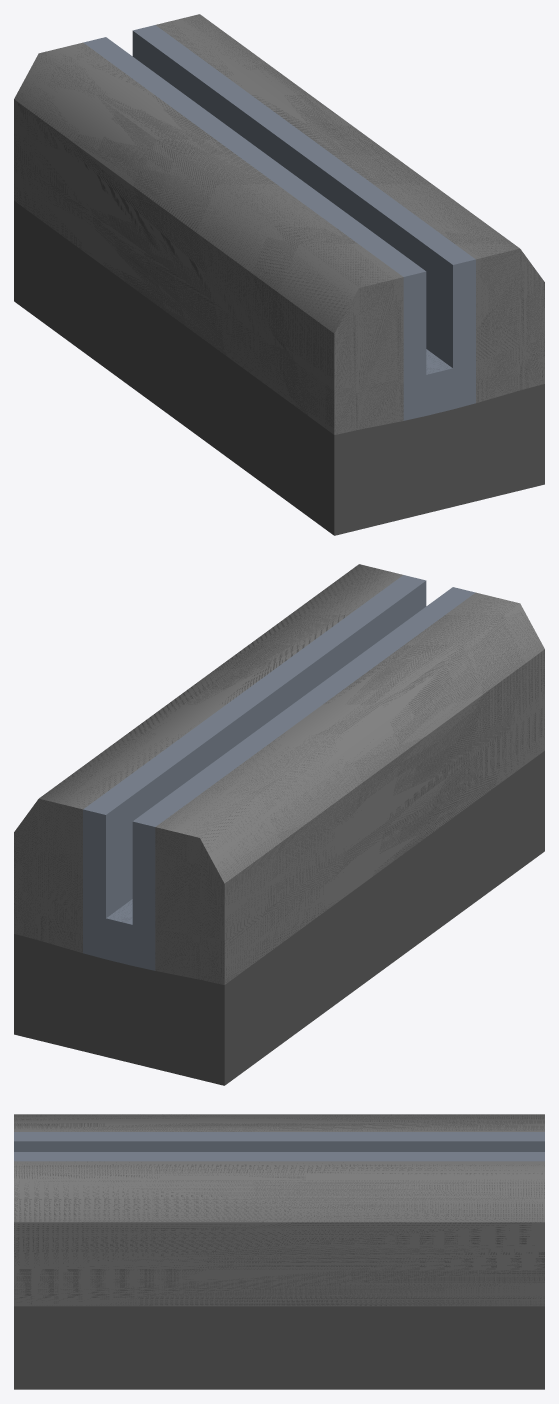
Rendered from card_reg.fbx.
3 views of the same model, one above another, from view 1: azimuth 30°, elevation 25°; view 2: azimuth 150°, elevation 25°; view 3: azimuth 270°, elevation 25° (orthographic). The views are drawn at different scales.
Parts seen in each view (by area): view 1: cardslider1; view 2: cardslider1; view 3: cardslider1.
Part boxes in pixels (x1,y1,x2,y2): cardslider1: (14,14,544,535); cardslider1: (14,564,544,1085); cardslider1: (14,1114,544,1389).
Size of the model in its own units: 0.0641 by 0.0704 by 0.1689.
